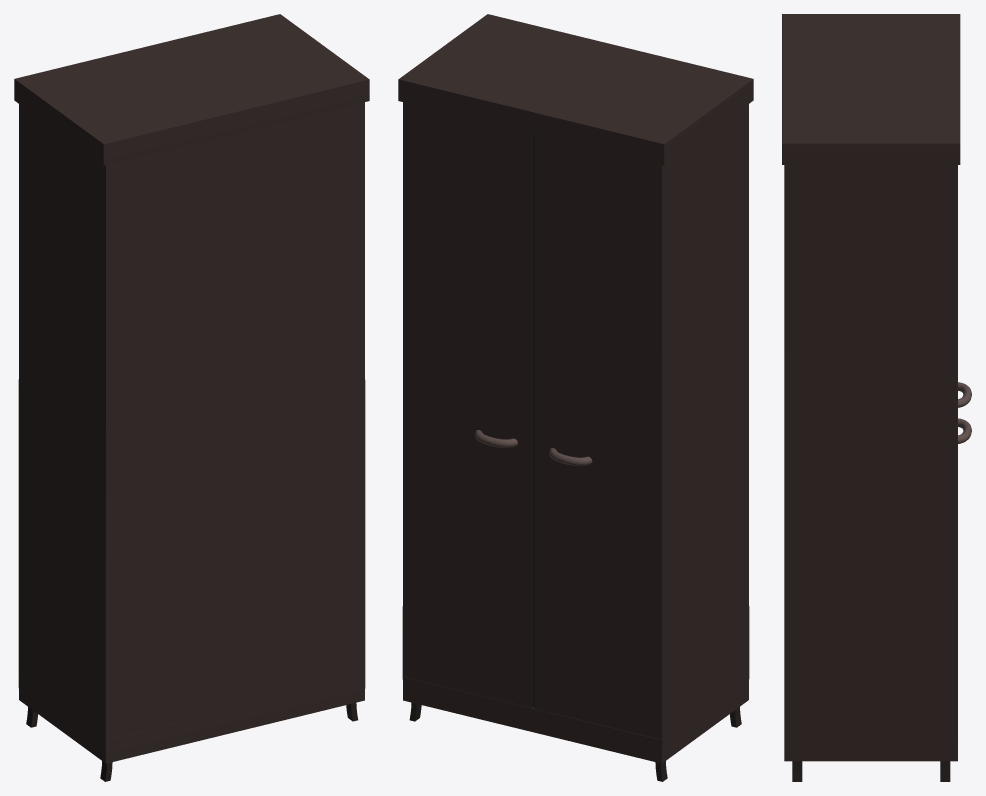
The model's file is Schrank.fbx.
3 views of the same model, side by side, from view 1: azimuth 30°, elevation 25°; view 2: azimuth 150°, elevation 25°; view 3: azimuth 270°, elevation 25° (orthographic).
Parts seen in each view (by area): view 1: Schrank; view 2: Schrank; view 3: Schrank.
Part boxes in pixels (left/top/right/bottom): Schrank: left=14, top=14, right=369, bottom=781; Schrank: left=398, top=14, right=753, bottom=781; Schrank: left=782, top=14, right=971, bottom=781.
Size of the model in its own units: 79.38 by 183 by 49.2.
